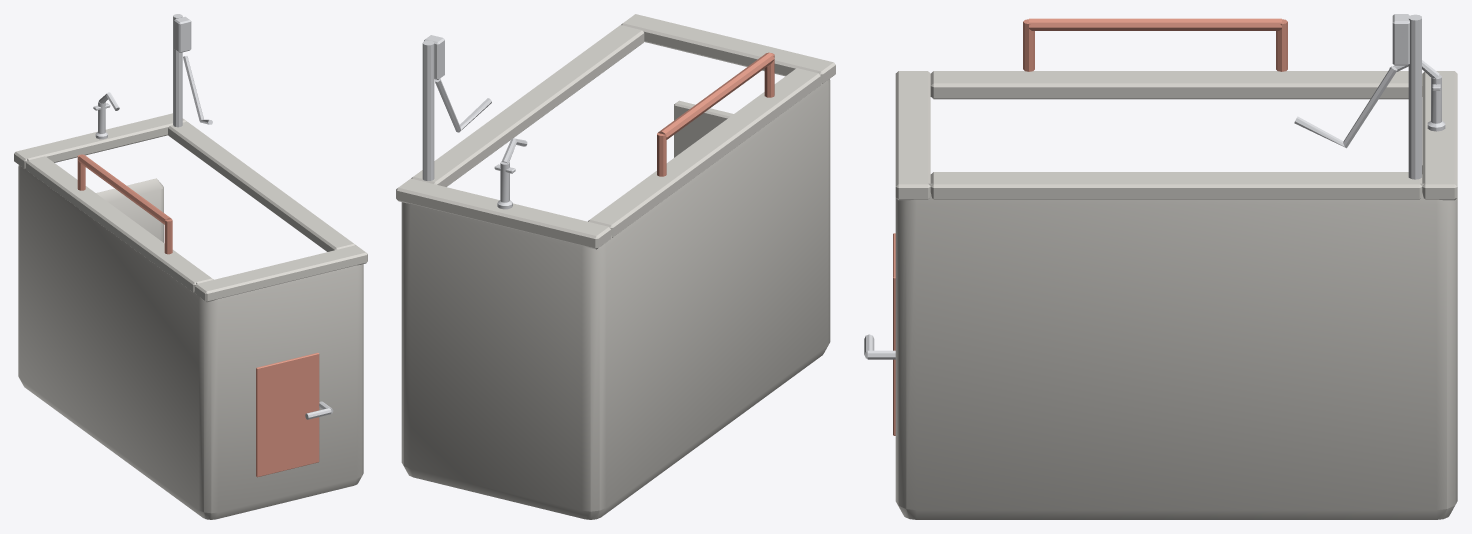
File: care-home-and-day-room-walk-in-bath-7eaf41c8__35754.glb
The picture shows the model from 3 angles, left to right: view 1: azimuth 30°, elevation 25°; view 2: azimuth 150°, elevation 25°; view 3: azimuth 270°, elevation 25°; orthographic projection. The views are drawn at different scales.
Visible parts, largest first — view 1: walk-in-bath, bath-door/accent; view 2: walk-in-bath, bath-door/cream; view 3: walk-in-bath.
Boxes of the visible parts, x1,y1,x2,y2 form: walk-in-bath: (14, 14, 367, 519); bath-door/accent: (256, 352, 319, 477); walk-in-bath: (396, 14, 835, 519); bath-door/cream: (674, 100, 733, 157); walk-in-bath: (895, 14, 1457, 519).
Bounding box in the file's own units: 0.78 × 1.56 × 1.69.
